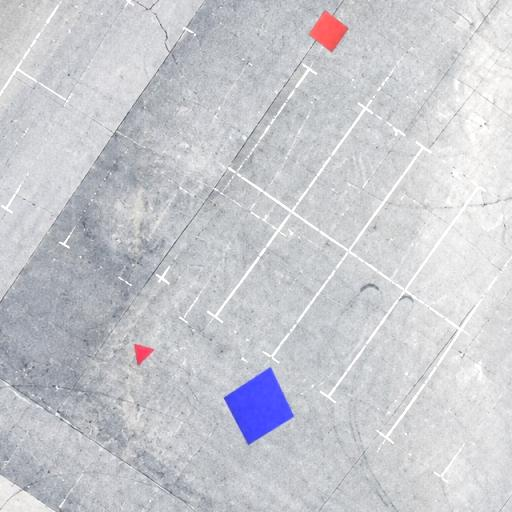BLUE_SQUARE: (224, 366, 294, 446)
RED_SQUARE: (308, 10, 350, 54)
